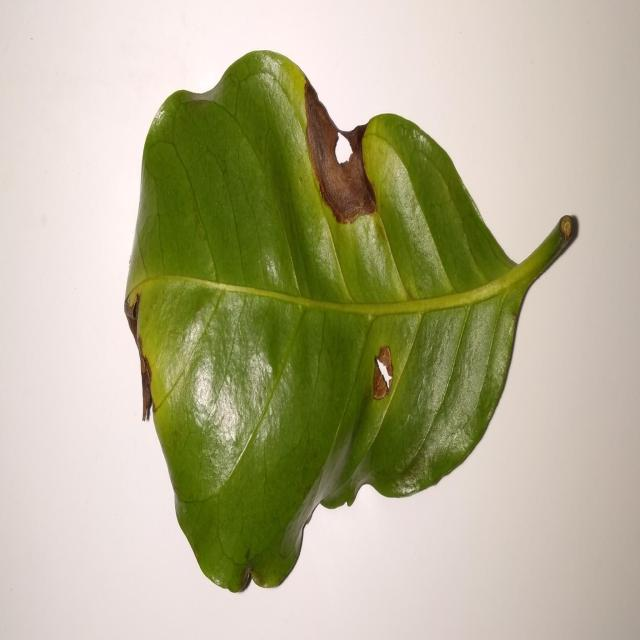Enfermedad-Antracnosis: (123, 50, 580, 596)
